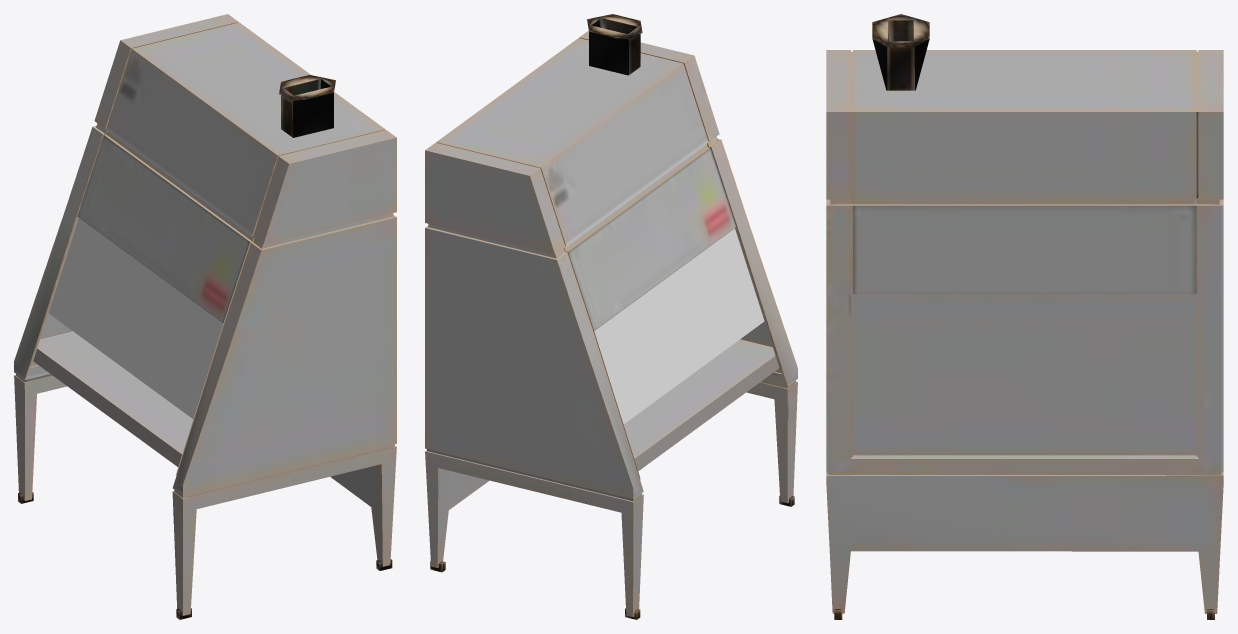
File: PRP_PCRMachine_lod.glb
The picture shows the model from 3 angles, left to right: view 1: azimuth 30°, elevation 25°; view 2: azimuth 150°, elevation 25°; view 3: azimuth 270°, elevation 25°; orthographic projection. The views are drawn at different scales.
Parts seen in each view (by area): view 1: Lab_Machine_Metal_0, Lab_Machine_Glass_0; view 2: Lab_Machine_Metal_0, Lab_Machine_Glass_0; view 3: Lab_Machine_Metal_0.
Part boxes in pixels (x1=…): Lab_Machine_Metal_0: x1=14, y1=14, x2=396, y2=619; Lab_Machine_Glass_0: x1=48, y1=218, x2=223, y2=418; Lab_Machine_Metal_0: x1=425, y1=14, x2=797, y2=619; Lab_Machine_Glass_0: x1=594, y1=228, x2=764, y2=424; Lab_Machine_Metal_0: x1=826, y1=14, x2=1223, y2=619.
Bounding box in the file's own units: 0.983 × 2.08 × 1.34.
Materials: 2 (1 with a texture image).
